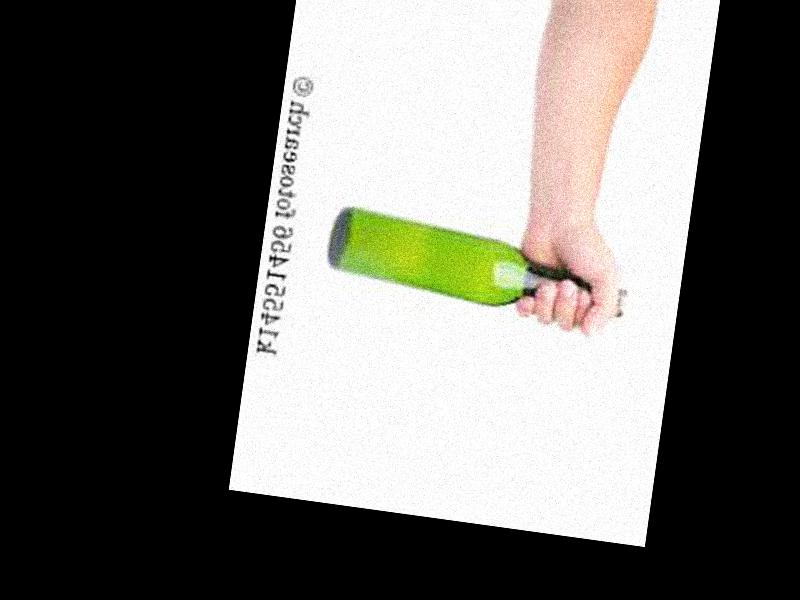Beer: (323, 203, 632, 323)
